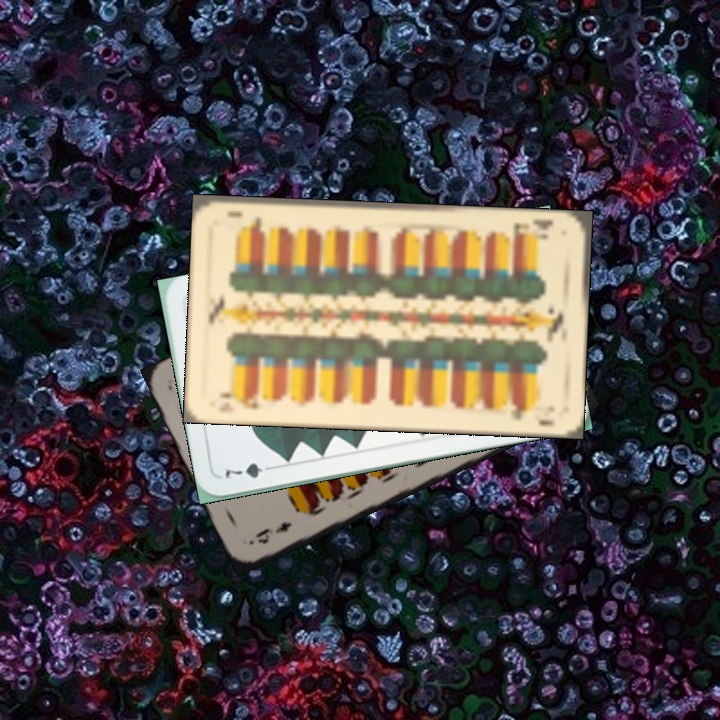E10: (508, 215, 556, 242), (215, 389, 262, 412)
E9: (251, 517, 295, 547)
G7: (221, 459, 278, 482)
